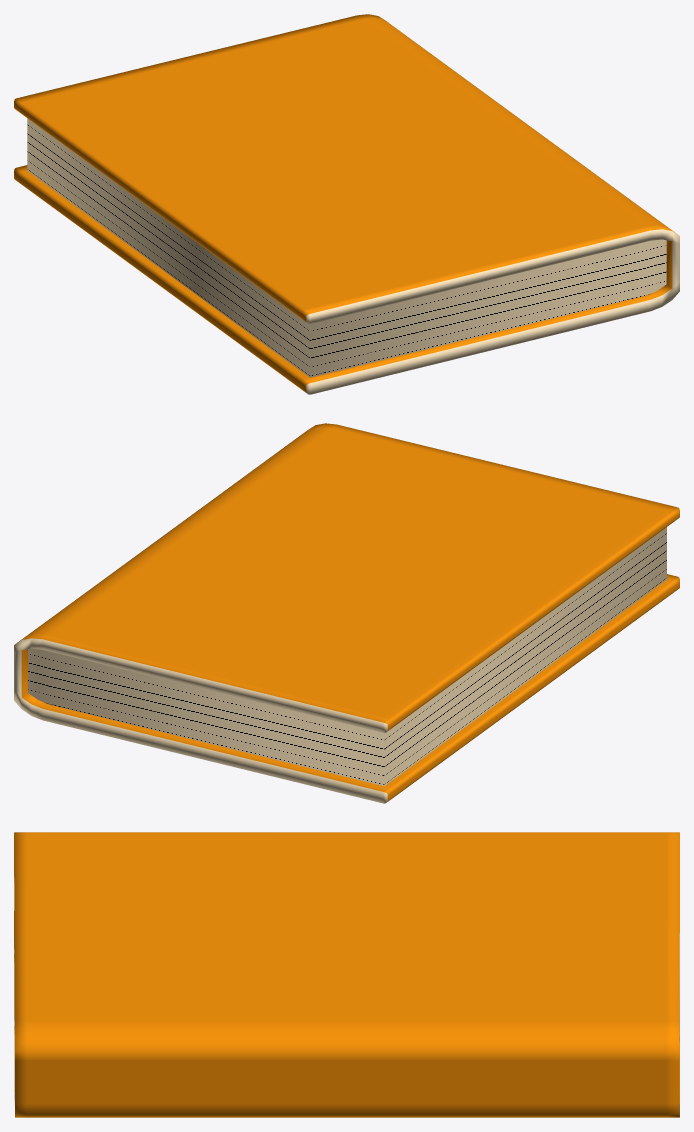
Rendered from book-orange.fbx.
The picture shows the model from 3 angles, top to bottom: view 1: azimuth 30°, elevation 25°; view 2: azimuth 150°, elevation 25°; view 3: azimuth 270°, elevation 25°; orthographic projection. The views are drawn at different scales.
Visible parts, largest first — view 1: book_orange; view 2: book_orange; view 3: book_orange.
Boxes of the visible parts, x1,y1,x2,y2 form: book_orange: (14,14,679,394); book_orange: (14,423,679,803); book_orange: (14,832,679,1117).
Size of the model in its own units: 8.66 by 1.79 by 11.81.
Materials: 1 (1 with a texture image).
